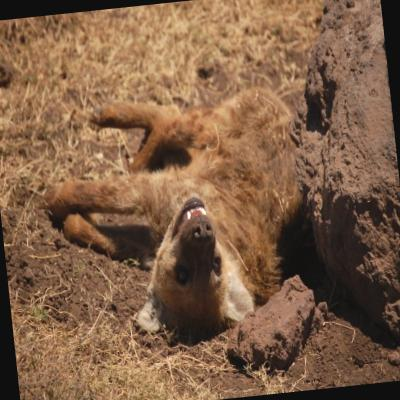hyenas: (12, 17, 333, 378)
